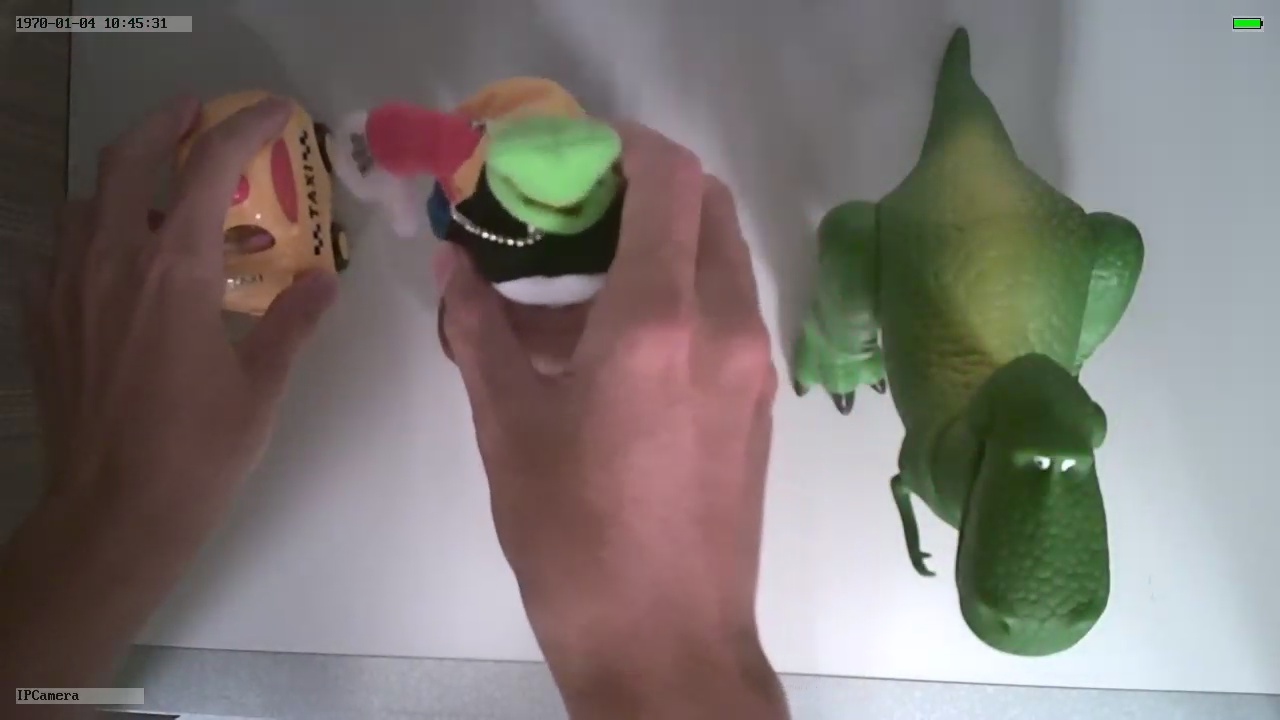rex: (796, 128, 1146, 659)
